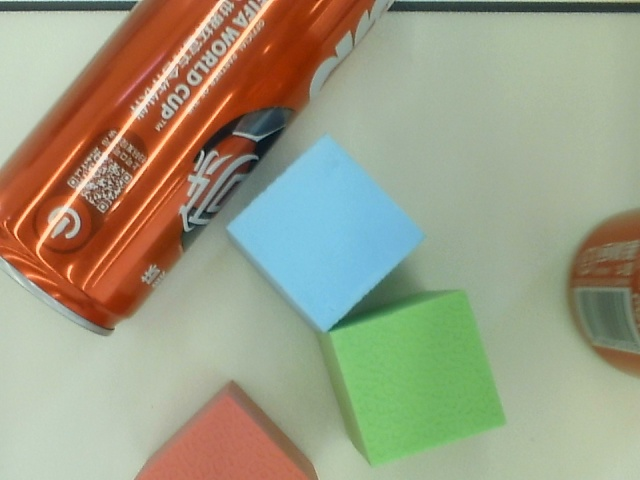bluecube: (221, 133, 422, 340)
cola: (1, 1, 398, 341), (558, 201, 640, 395)
greencube: (312, 286, 514, 463)
redcube: (128, 376, 330, 480)
